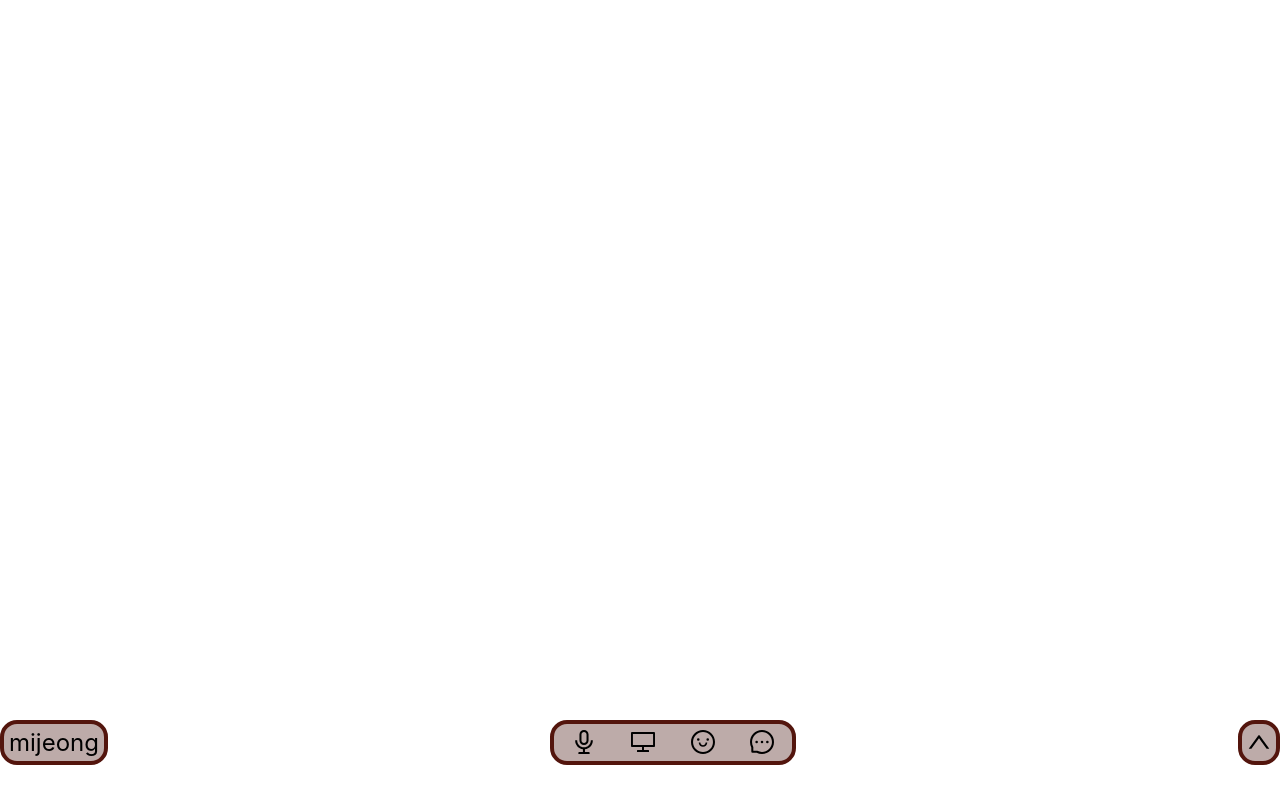
Scenario: Navigator test › 화면공유 버튼을 눌렀을 때에 화면 공유 창이 떠야함.
Click the picture named "desktop": (643, 742) top-left (631, 730), bottom-right (655, 754)
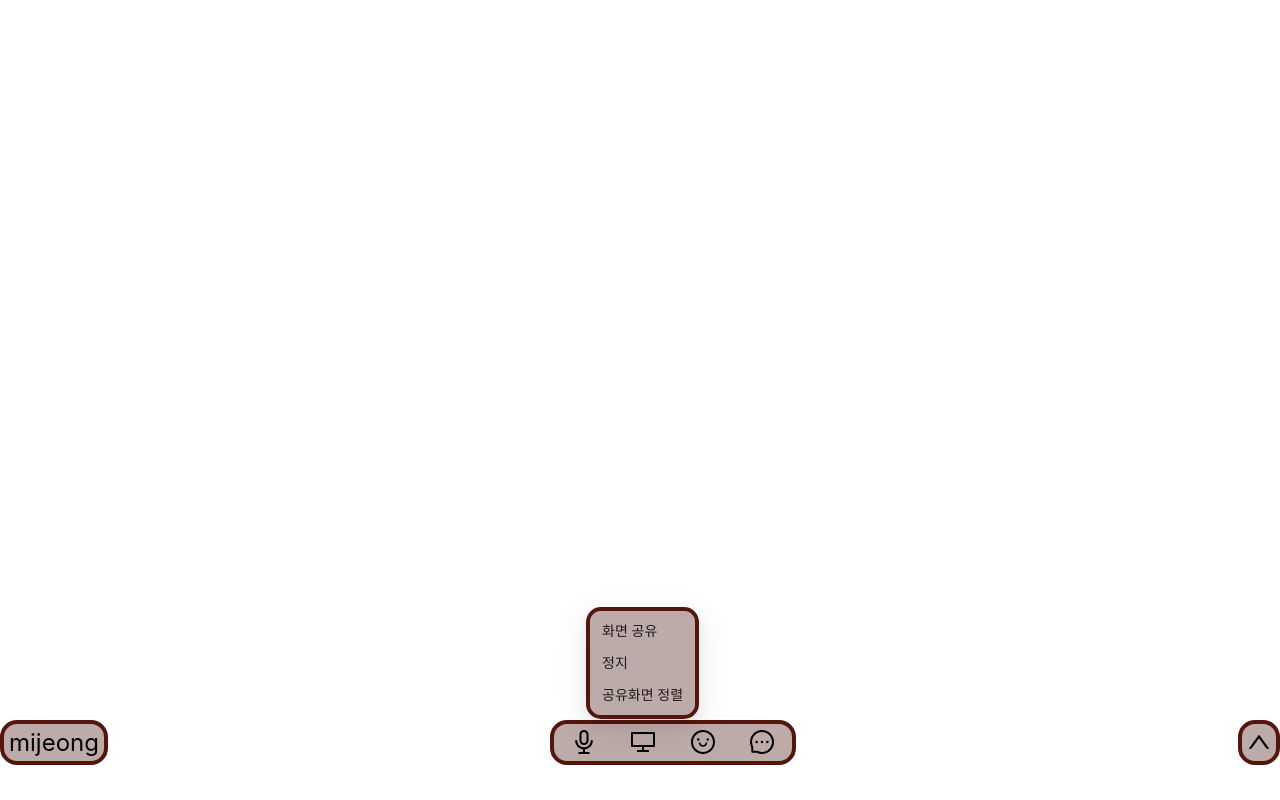
Expected: the button "화면 공유" is shown, top-left (602, 622), bottom-right (657, 639)
